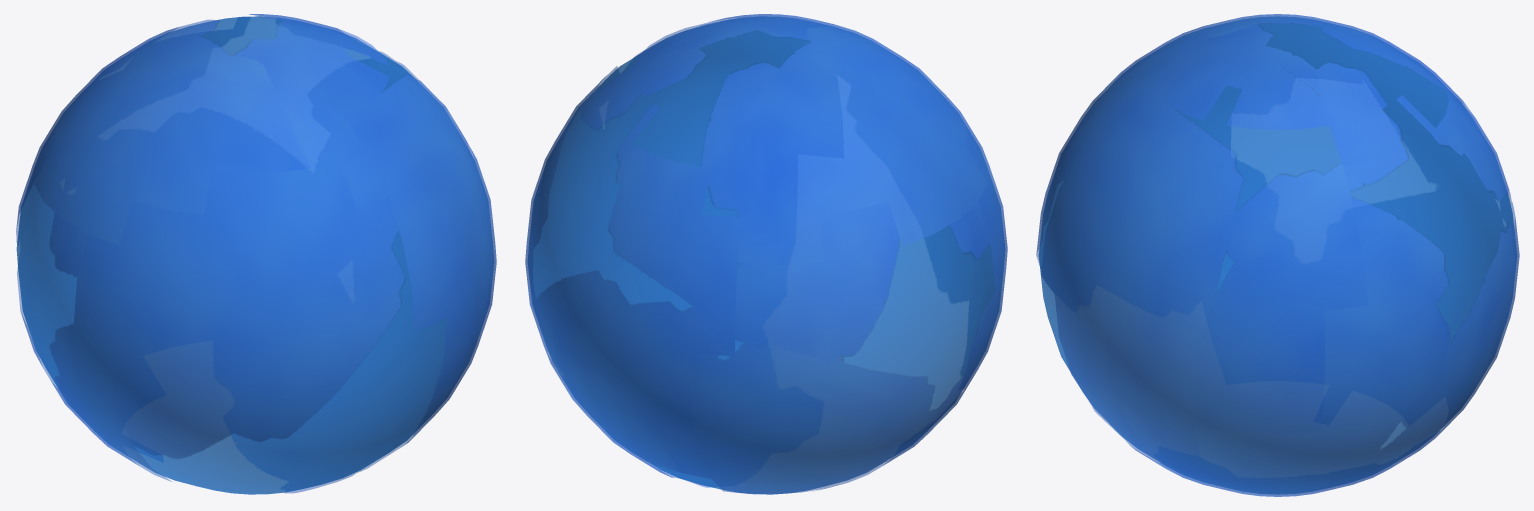
File: tine stop range.fbx
3 renders of one model, left to right at view 1: azimuth 30°, elevation 25°; view 2: azimuth 150°, elevation 25°; view 3: azimuth 270°, elevation 25°, orthographic.
Parts seen in each view (by area): view 1: Сфера.001, Сфера; view 2: Сфера.001, Сфера; view 3: Сфера.001, Сфера.
Boxes of the visible parts, x1,y1,x2,y2 form: Сфера.001: (16, 16, 493, 494); Сфера: (16, 14, 496, 493); Сфера.001: (528, 16, 1004, 494); Сфера: (525, 14, 1007, 494); Сфера.001: (1038, 16, 1516, 494); Сфера: (1036, 14, 1519, 496).
Bounding box in the file's own units: 10000 × 10000 × 10000.
